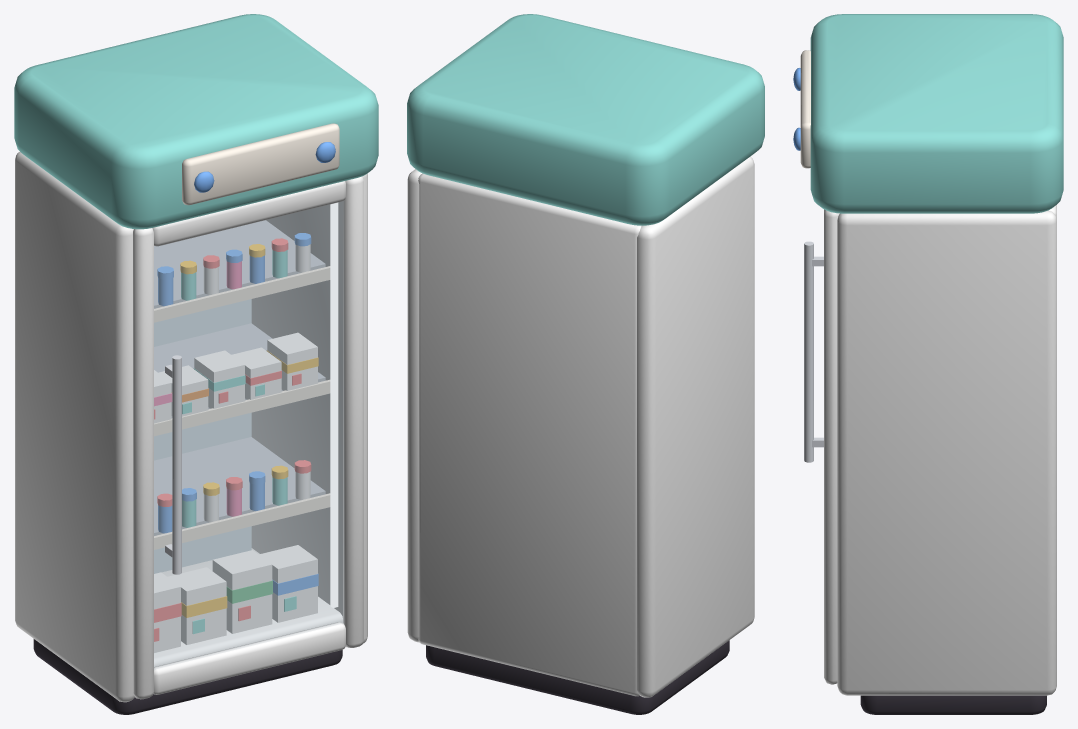
The model's file is cooler_med.glb.
The picture shows the model from 3 angles, left to right: view 1: azimuth 30°, elevation 25°; view 2: azimuth 150°, elevation 25°; view 3: azimuth 270°, elevation 25°; orthographic projection. The views are drawn at different scales.
Parts seen in each view (by area): view 1: cooler_med; view 2: cooler_med; view 3: cooler_med.
Boxes of the visible parts, x1=… form: cooler_med: x1=14, y1=14, x2=378, y2=714; cooler_med: x1=407, y1=14, x2=764, y2=714; cooler_med: x1=793, y1=14, x2=1063, y2=714.
Size of the model in its own units: 0.92 by 1.95 by 0.8125.
